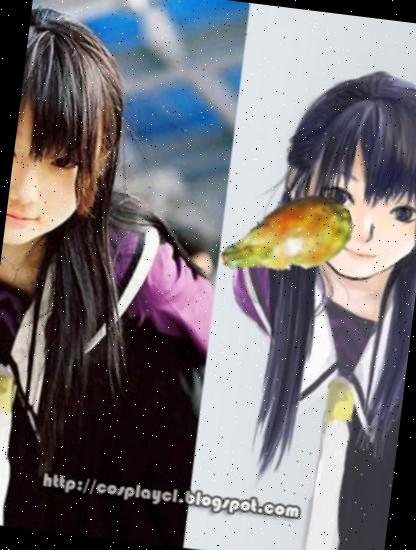Cactus: (209, 162, 362, 315)
